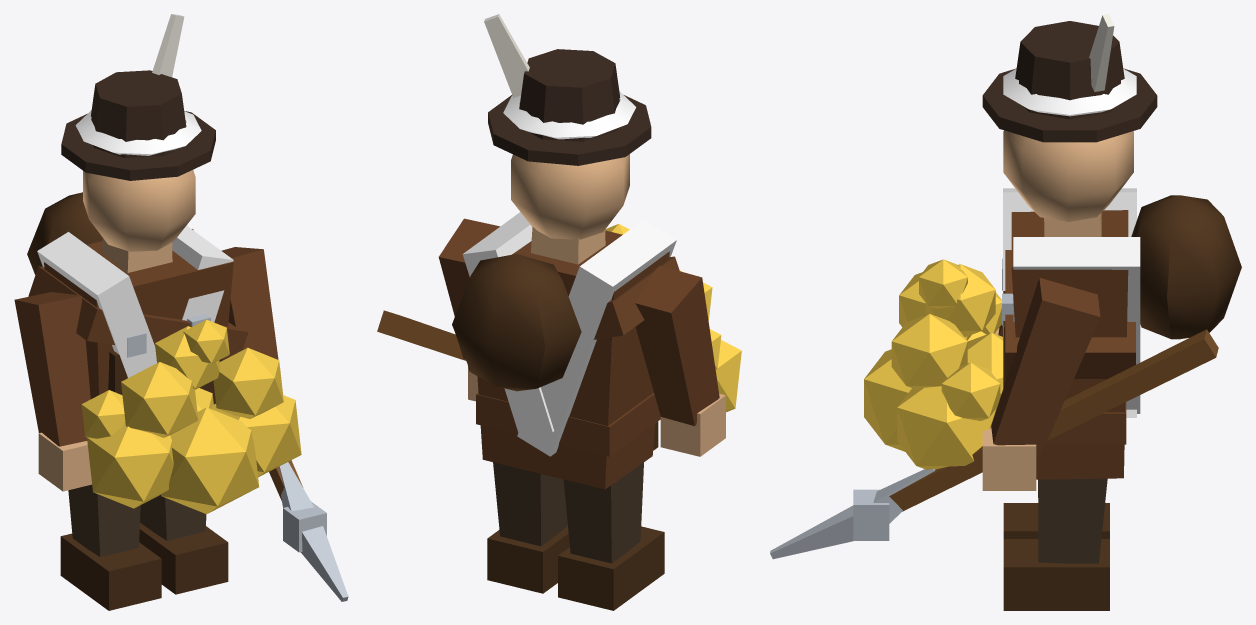
Rendered from Worker_SecondAge.glb.
3 views of the same model, side by side, from view 1: azimuth 30°, elevation 25°; view 2: azimuth 150°, elevation 25°; view 3: azimuth 270°, elevation 25° (orthographic). The views are drawn at different scales.
Parts seen in each view (by area): view 1: Load_Gold, Team, Felt, Leather, Left_Leather, Skin, LegA_Dark, LegB_Dark, Right_Leather, Tool_Metal, LegA_Trouser, Dark (+4 smaller); view 2: Leather, Team, Dark, Felt, Left_Leather, Skin, LegA_Trouser, LegA_Dark, LegB_Trouser, LegB_Dark, Left_Skin, Right_Leather (+3 smaller); view 3: Load_Gold, Leather, Dark, Felt, Right_Leather, Skin, Team, Tool_Wood, LegB_Dark, LegB_Trouser, Tool_Metal, Right_Skin (+2 smaller).
Part boxes in pixels (left/top/right/bottom): Load_Gold: left=81, top=319, right=301, bottom=514; Team: left=37, top=110, right=233, bottom=377; Felt: left=61, top=70, right=215, bottom=180; Leather: left=28, top=241, right=248, bottom=398; Left_Leather: left=14, top=292, right=90, bottom=446; Skin: left=83, top=170, right=195, bottom=272; LegA_Dark: left=60, top=533, right=161, bottom=610; LegB_Dark: left=139, top=522, right=228, bottom=594; Right_Leather: left=221, top=247, right=278, bottom=359; Tool_Metal: left=279, top=462, right=348, bottom=601; LegA_Trouser: left=68, top=484, right=140, bottom=556; Dark: left=27, top=192, right=222, bottom=404; Leather: left=455, top=230, right=679, bottom=489; Team: left=462, top=91, right=676, bottom=456; Dark: left=452, top=254, right=658, bottom=450; Felt: left=488, top=49, right=651, bottom=165; Left_Leather: left=635, top=265, right=719, bottom=425; Skin: left=511, top=154, right=629, bottom=264; LegA_Trouser: left=563, top=462, right=643, bottom=563; LegA_Dark: left=558, top=526, right=664, bottom=610; LegB_Trouser: left=493, top=462, right=567, bottom=546; LegB_Dark: left=487, top=526, right=569, bottom=593; Left_Skin: left=660, top=393, right=725, bottom=456; Right_Leather: left=438, top=218, right=499, bottom=371; Load_Gold: left=864, top=259, right=1003, bottom=469; Leather: left=1005, top=210, right=1135, bottom=479; Dark: left=1003, top=195, right=1241, bottom=387; Felt: left=982, top=21, right=1157, bottom=142; Right_Leather: left=991, top=277, right=1100, bottom=457; Skin: left=1003, top=130, right=1133, bottom=236; Team: left=1003, top=68, right=1140, bottom=417; Tool_Wood: left=889, top=329, right=1218, bottom=511; LegB_Dark: left=1003, top=539, right=1109, bottom=610; LegB_Trouser: left=1038, top=478, right=1107, bottom=563; Tool_Metal: left=770, top=469, right=934, bottom=559; Right_Skin: left=982, top=427, right=1036, bottom=490.
Size of the model in its own units: 0.4253 by 0.9499 by 0.6866.
